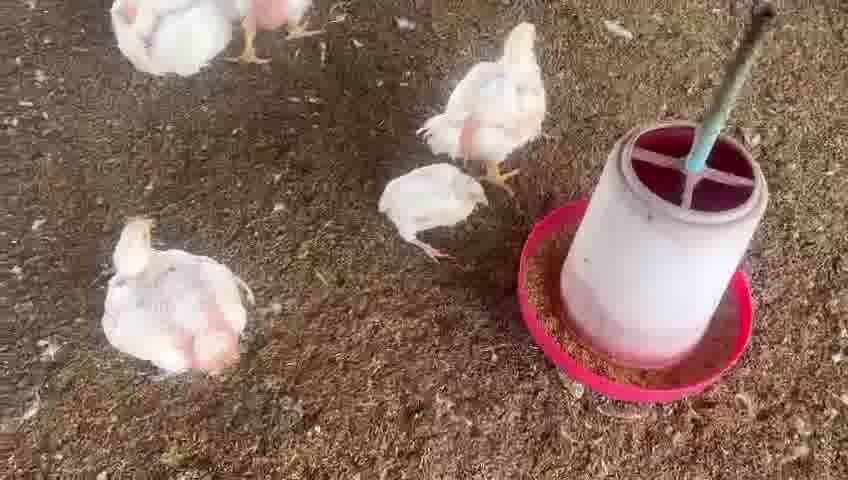AbNormal: (106, 216, 253, 378), (382, 163, 485, 262), (108, 3, 235, 74)
Normal: (426, 22, 543, 190), (239, 1, 322, 66)
